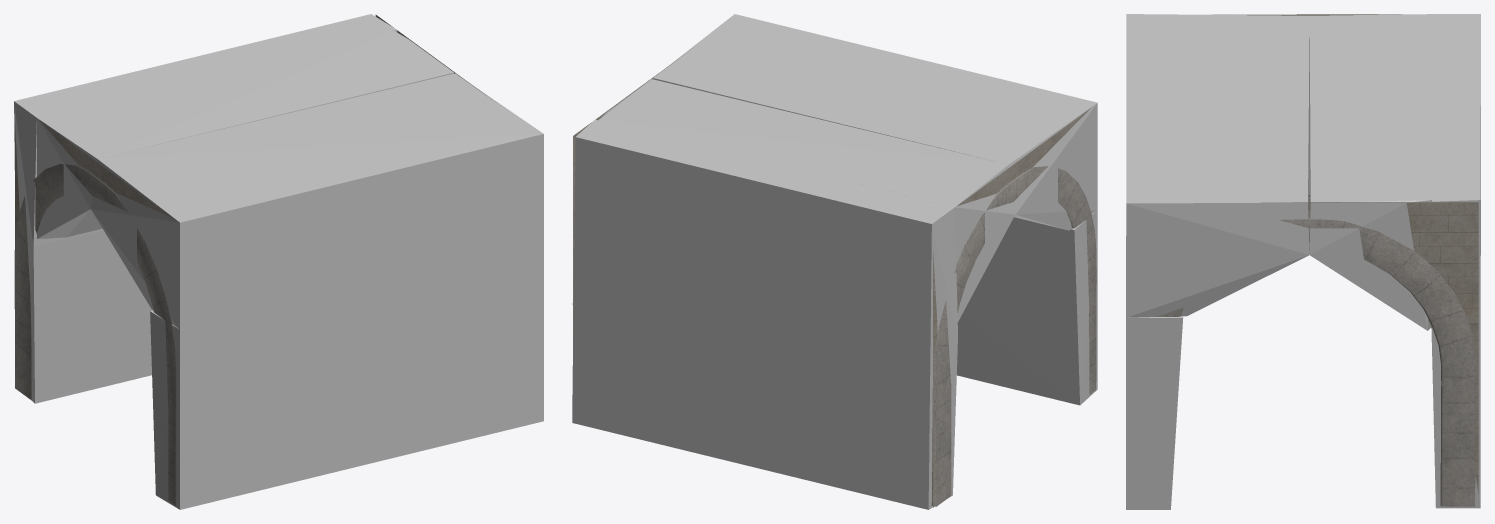
File: SM_SMM_Wall01A.fbx
3 renders of one model, left to right at view 1: azimuth 30°, elevation 25°; view 2: azimuth 150°, elevation 25°; view 3: azimuth 270°, elevation 25°, orthographic. The views are drawn at different scales.
Parts seen in each view (by area): view 1: SM_SMM_Wall01A_ConvexHulls, SM_SMM_Wall01A; view 2: SM_SMM_Wall01A_ConvexHulls, SM_SMM_Wall01A; view 3: SM_SMM_Wall01A_ConvexHulls, SM_SMM_Wall01A.
Part boxes in pixels (left/top/right/bottom): SM_SMM_Wall01A_ConvexHulls: left=14, top=14, right=543, bottom=509; SM_SMM_Wall01A: left=14, top=14, right=491, bottom=505; SM_SMM_Wall01A_ConvexHulls: left=572, top=14, right=1097, bottom=509; SM_SMM_Wall01A: left=572, top=54, right=1096, bottom=507; SM_SMM_Wall01A_ConvexHulls: left=1126, top=14, right=1480, bottom=509; SM_SMM_Wall01A: left=1157, top=14, right=1478, bottom=506.
Bounding box in the file's own units: 783 × 614 × 586.
3 materials, 2 textured.
